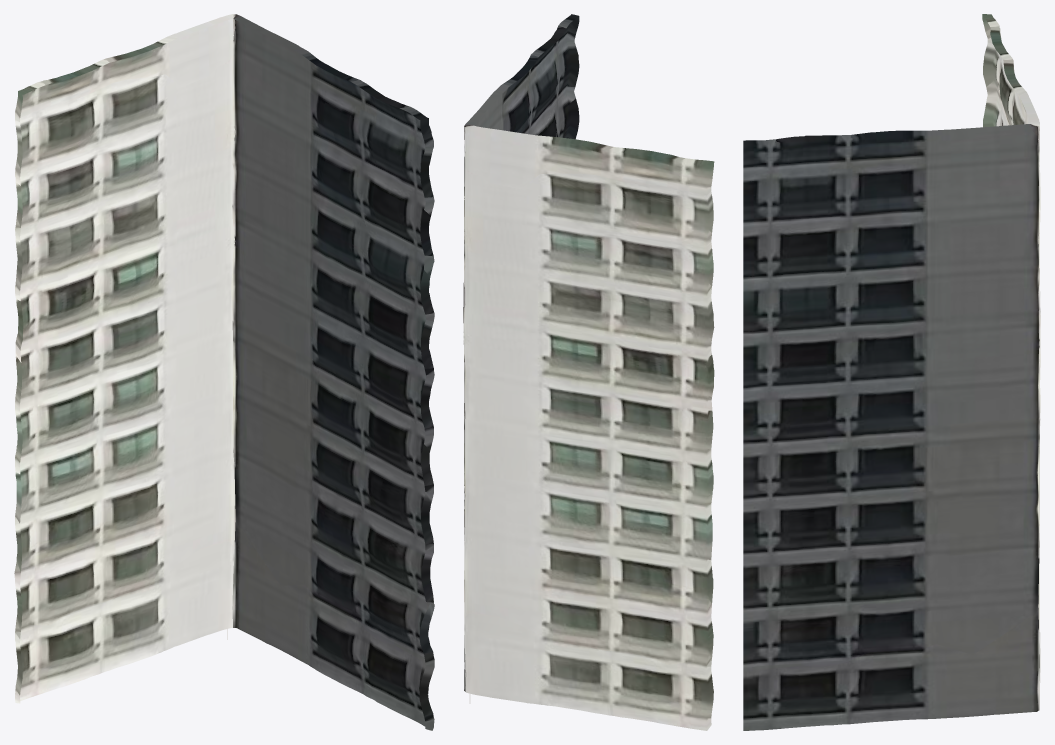
The model's file is z20-167750-405243-h1-yup-uvflip-v3-world.glb.
3 views of the same model, side by side, from view 1: azimuth 30°, elevation 25°; view 2: azimuth 150°, elevation 25°; view 3: azimuth 270°, elevation 25° (orthographic). The views are drawn at different scales.
Bounding box in the file's own units: 16.2 × 33.72 × 15.28.
1 material, 1 textured.
